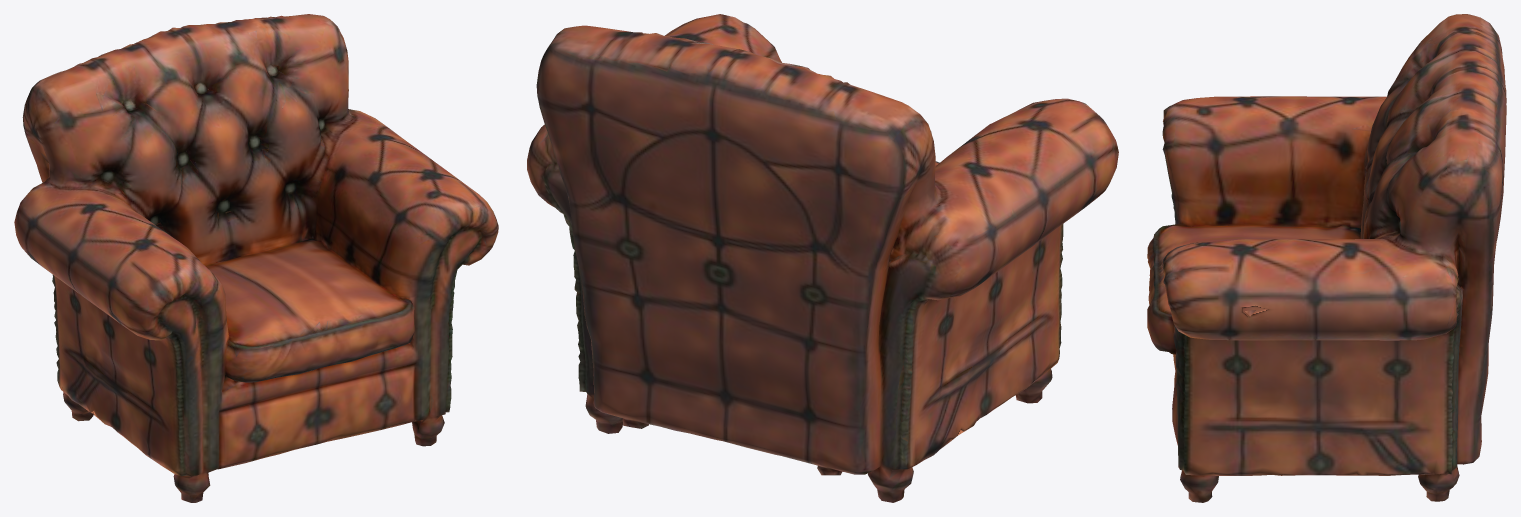
File: armchair.glb
3 renders of one model, left to right at view 1: azimuth 30°, elevation 25°; view 2: azimuth 150°, elevation 25°; view 3: azimuth 270°, elevation 25°, orthographic. The views are drawn at different scales.
Parts seen in each view (by area): view 1: model; view 2: model; view 3: model.
Boxes of the visible parts, bbox=[...] form: model: bbox=[14, 14, 498, 502]; model: bbox=[527, 14, 1118, 502]; model: bbox=[1147, 14, 1506, 502].
Bounding box in the file's own units: 1.91 × 1.71 × 1.51.
Materials: 1 (1 with a texture image).
